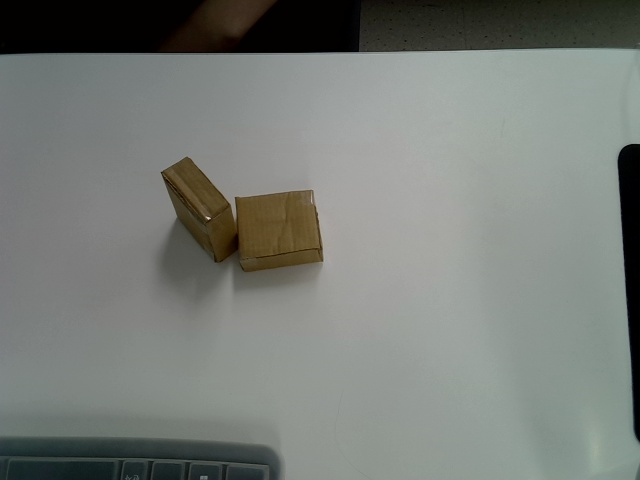normal: (161, 156, 236, 263), (234, 189, 324, 273)
